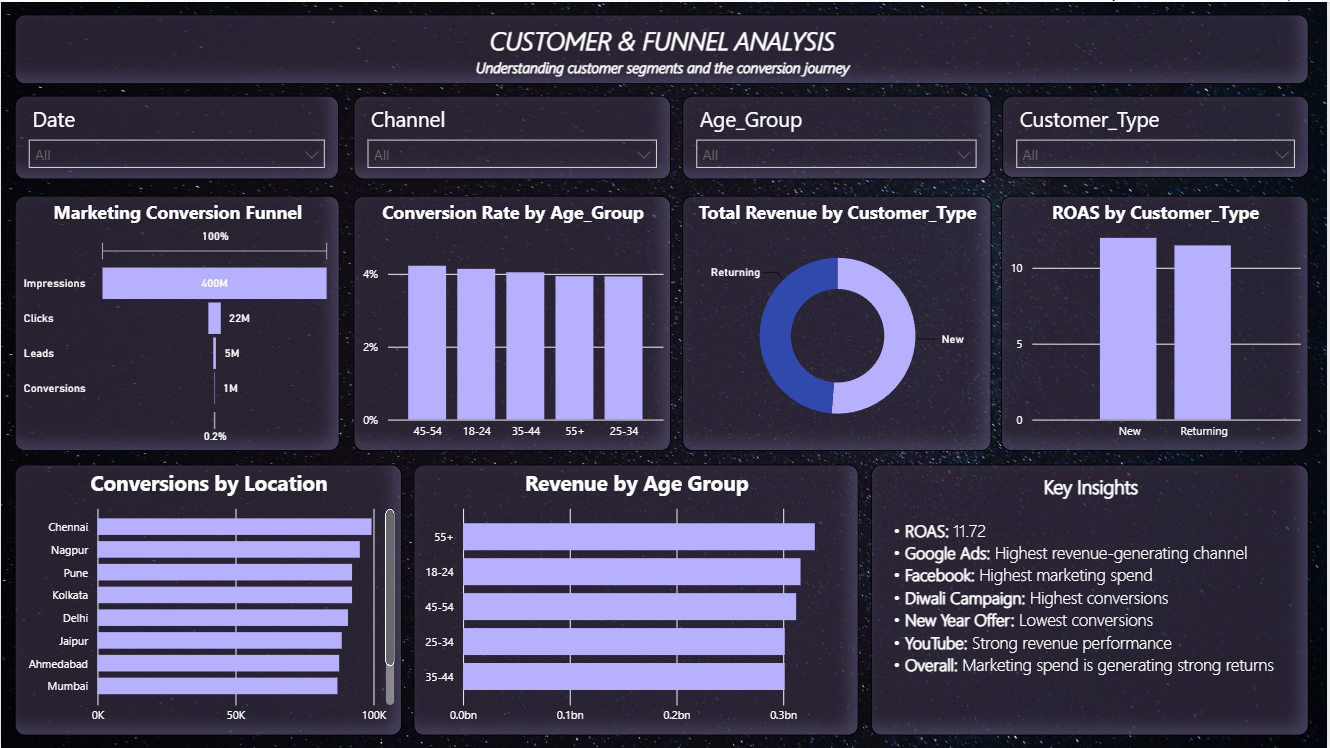

The page's visual inventory and layout, read from the dashboard file:
{"tool":"powerbi","page":{"name":"Page 3","canvas":[1280,720],"ordinal":2},"visuals":[{"type":"textbox","box":[13.7,12.3,1248.7,67.2],"z":0},{"type":"slicer","fields":{"Values":["MarketingData.Date"]},"box":[13.7,90.6,312.9,81],"z":1000},{"type":"slicer","fields":{"Values":["MarketingData.Channel"]},"box":[340.3,90.6,315.6,81],"z":2000},{"type":"slicer","fields":{"Values":["MarketingData.Age_Group"]},"box":[668.3,90.6,288.2,81],"z":3000},{"type":"slicer","fields":{"Values":["MarketingData.Customer_Type"]},"box":[966,90.6,296.4,79.6],"z":4000},{"type":"funnel","title":"Marketing Conversion Funnel","fields":{"Category":["FunnelStages.Stage"],"Y":["FunnelStages.Funnel Value"]},"box":[13.7,188,373.2,245.6],"z":5000},{"type":"clusteredColumnChart","fields":{"Category":["MarketingData.Age_Group"],"Y":["MarketingData.Conversion Rate"]},"box":[397.9,188,424,245.6],"z":6000},{"type":"donutChart","fields":{"Category":["MarketingData.Customer_Type"],"Y":["MarketingData.Total Revenue"]},"box":[832.9,188,429.5,245.6],"z":7000},{"type":"barChart","title":"Conversions by Location","fields":{"Category":["MarketingData.Location"],"Y":["MarketingData.Total Conversions"]},"box":[13.7,446,373.2,260.7],"z":8000},{"type":"clusteredColumnChart","title":"ROAS by Customer_Type","fields":{"Category":["MarketingData.Customer_Type"],"Y":["MarketingData.ROASM"]},"box":[397.9,446,424,260.7],"z":9000},{"type":"barChart","title":"Revenue by Age Group","fields":{"Y":["MarketingData.Total Revenue"],"Category":["MarketingData.Age_Group"]},"box":[832.9,446,429.5,260.7],"z":10000}]}

Visuals, with their boxes in screenshot pixels (x1, y1, x2, y2), scaled from the page's 1280x720 canvas onto the 1330x748 screenshot:
textbox: <bbox>14, 13, 1312, 83</bbox>
slicer - MarketingData.Date: <bbox>14, 94, 339, 178</bbox>
slicer - MarketingData.Channel: <bbox>354, 94, 682, 178</bbox>
slicer - MarketingData.Age_Group: <bbox>694, 94, 994, 178</bbox>
slicer - MarketingData.Customer_Type: <bbox>1004, 94, 1312, 177</bbox>
"Marketing Conversion Funnel" funnel: <bbox>14, 195, 402, 450</bbox>
clusteredColumnChart - MarketingData.Age_Group x MarketingData.Conversion Rate: <bbox>413, 195, 854, 450</bbox>
donutChart - MarketingData.Customer_Type x MarketingData.Total Revenue: <bbox>865, 195, 1312, 450</bbox>
"Conversions by Location" barChart: <bbox>14, 463, 402, 734</bbox>
"ROAS by Customer_Type" clusteredColumnChart: <bbox>413, 463, 854, 734</bbox>
"Revenue by Age Group" barChart: <bbox>865, 463, 1312, 734</bbox>
